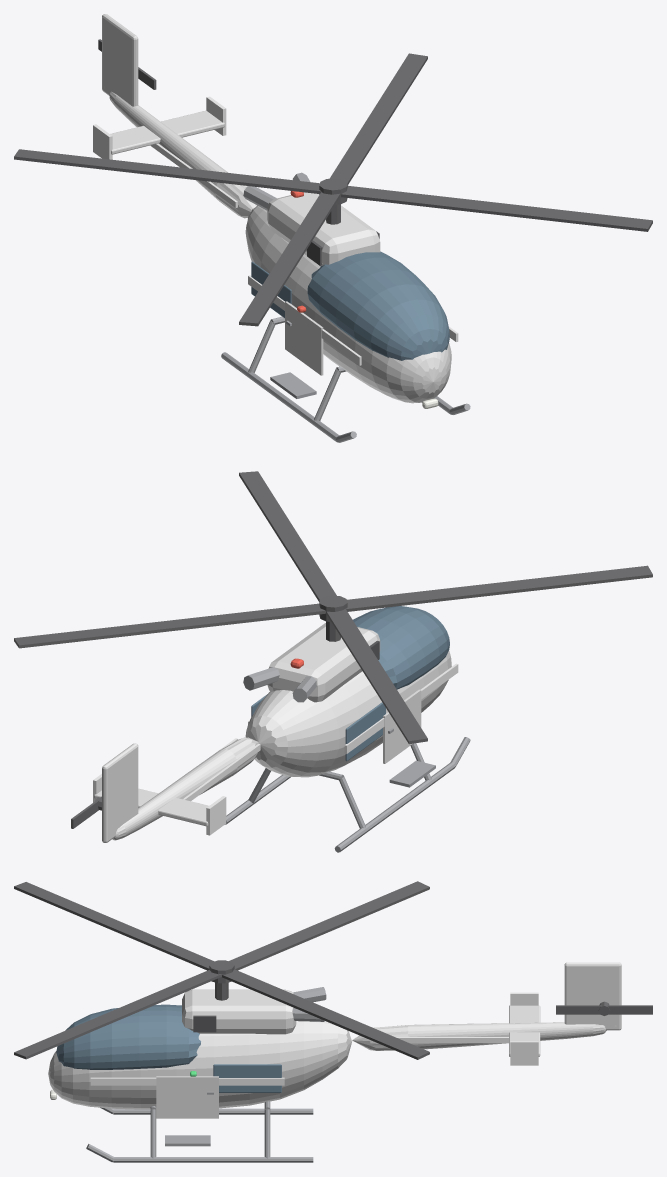
File: helicopter.glb
The picture shows the model from 3 angles, top to bottom: view 1: azimuth 30°, elevation 25°; view 2: azimuth 150°, elevation 25°; view 3: azimuth 270°, elevation 25°; orthographic projection. The views are drawn at different scales.
Parts seen in each view (by area): view 1: body, rotor-main, detach_door_right, detach_step_right; view 2: body, rotor-main, detach_door_right, detach_step_right; view 3: body, rotor-main, detach_door_left, rotor-tail, detach_step_left.
Boxes of the visible parts, x1,y1,x2,y2 form: body: (93, 14, 470, 442); rotor-main: (14, 53, 652, 326); detach_door_right: (285, 301, 323, 375); detach_step_right: (270, 372, 316, 398); body: (93, 606, 470, 852); rotor-main: (14, 471, 652, 744); detach_door_right: (383, 689, 421, 763); detach_step_right: (389, 760, 435, 787); body: (48, 962, 621, 1162); rotor-main: (14, 881, 429, 1059); detach_door_left: (156, 1076, 218, 1118); rotor-tail: (556, 1001, 652, 1015); detach_step_left: (165, 1135, 210, 1146).
Bounding box in the file's own units: 7.28 × 3.39 × 11.19.
